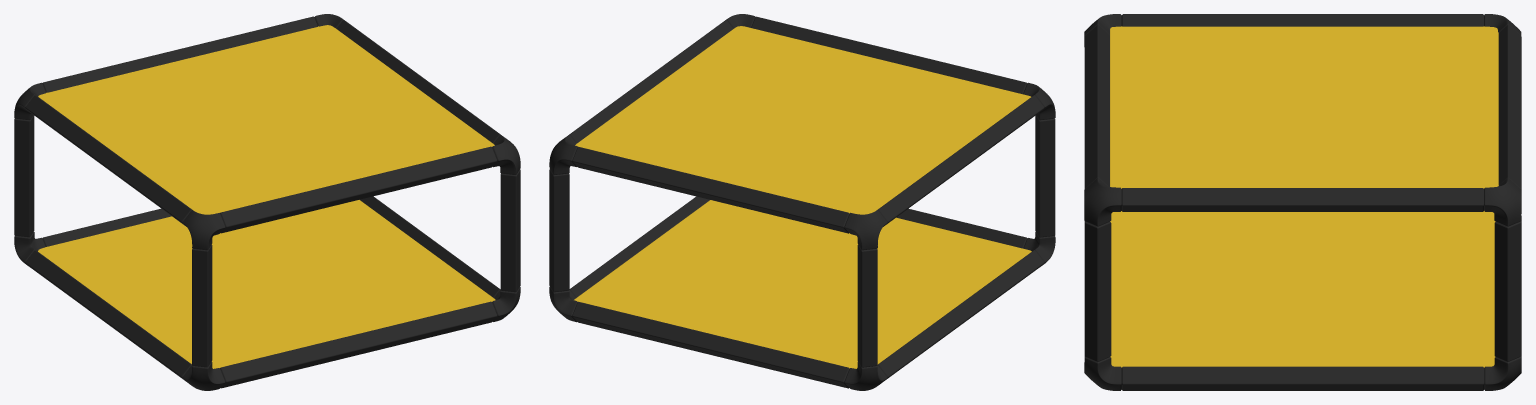
3 views of the same model, side by side, from view 1: azimuth 30°, elevation 25°; view 2: azimuth 150°, elevation 25°; view 3: azimuth 270°, elevation 25° (orthographic). The views are drawn at different scales.
Visible parts, largest first — view 1: 374x374x154; view 2: 374x374x154; view 3: 374x374x154.
Boxes of the visible parts, x1,y1,x2,y2 form: 374x374x154: (14, 14, 520, 390); 374x374x154: (549, 14, 1055, 390); 374x374x154: (1084, 14, 1521, 390).
Bounding box in the file's own units: 0.4517 × 0.2316 × 0.4513.
